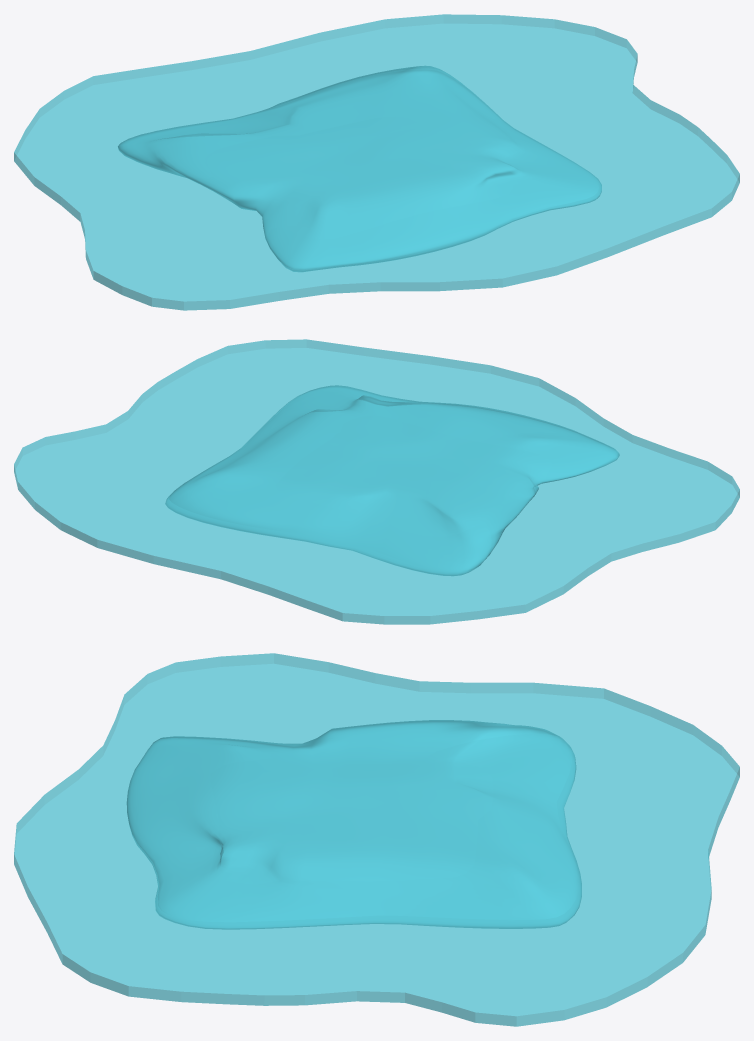
Rendered from ice_V3.glb.
The picture shows the model from 3 angles, top to bottom: view 1: azimuth 30°, elevation 25°; view 2: azimuth 150°, elevation 25°; view 3: azimuth 270°, elevation 25°; orthographic projection. The views are drawn at different scales.
Parts seen in each view (by area): view 1: Plane, Ice Cube.001; view 2: Plane, Ice Cube.001; view 3: Plane, Ice Cube.001.
Part boxes in pixels (left/top/right/bottom): Plane: left=14, top=14, right=739, bottom=310; Ice Cube.001: left=118, top=65, right=601, bottom=271; Plane: left=14, top=339, right=739, bottom=624; Ice Cube.001: left=165, top=385, right=619, bottom=575; Plane: left=14, top=653, right=739, bottom=1026; Ice Cube.001: left=126, top=720, right=581, bottom=929.
Size of the model in its own units: 2.92 by 0.1555 by 2.47.
